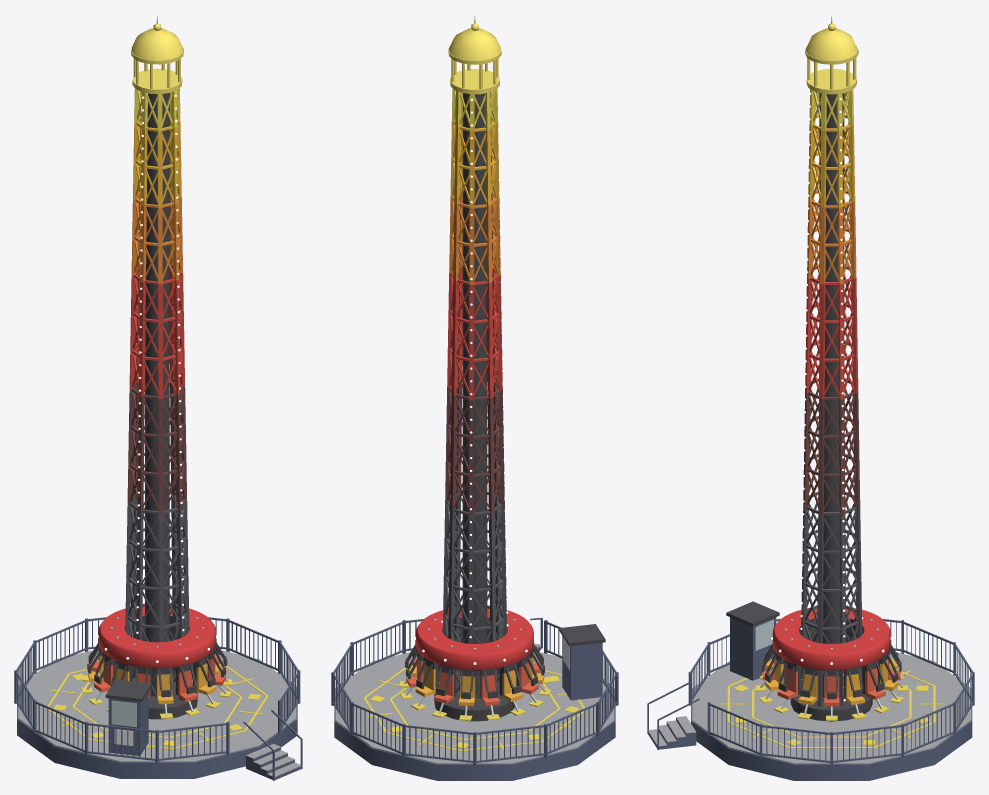
3 renders of one model, left to right at view 1: azimuth 30°, elevation 25°; view 2: azimuth 150°, elevation 25°; view 3: azimuth 270°, elevation 25°, orthographic.
Parts seen in each view (by area): view 1: base, spin0; view 2: base, spin0; view 3: base, spin0.
Boxes of the visible parts, <box> form: base: <box>14,16,302,780</box>; spin0: <box>81,606,233,718</box>; base: <box>331,16,618,780</box>; spin0: <box>399,608,550,720</box>; base: <box>647,15,974,780</box>; spin0: <box>755,607,907,720</box>.
Bounding box in the file's own units: 8.74 × 23.85 × 10.01.
